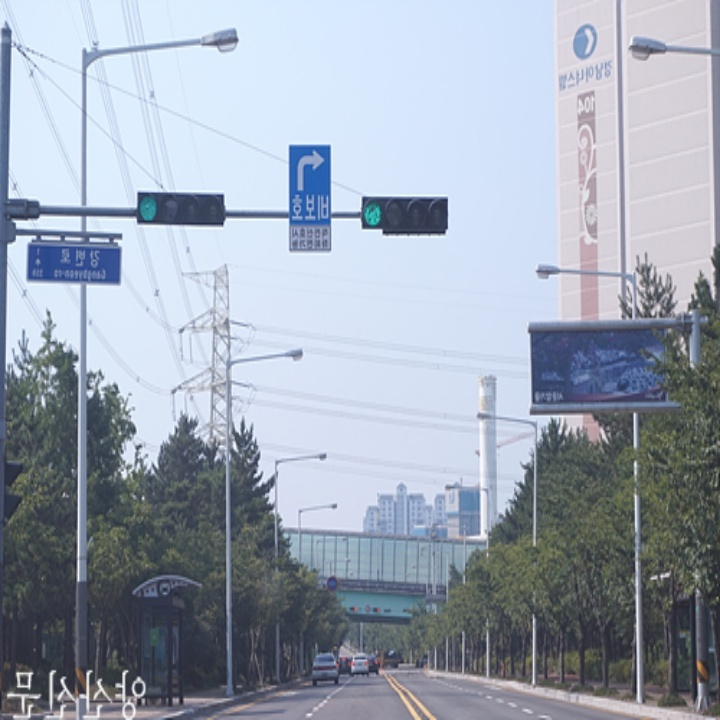right: (289, 147, 327, 191)
